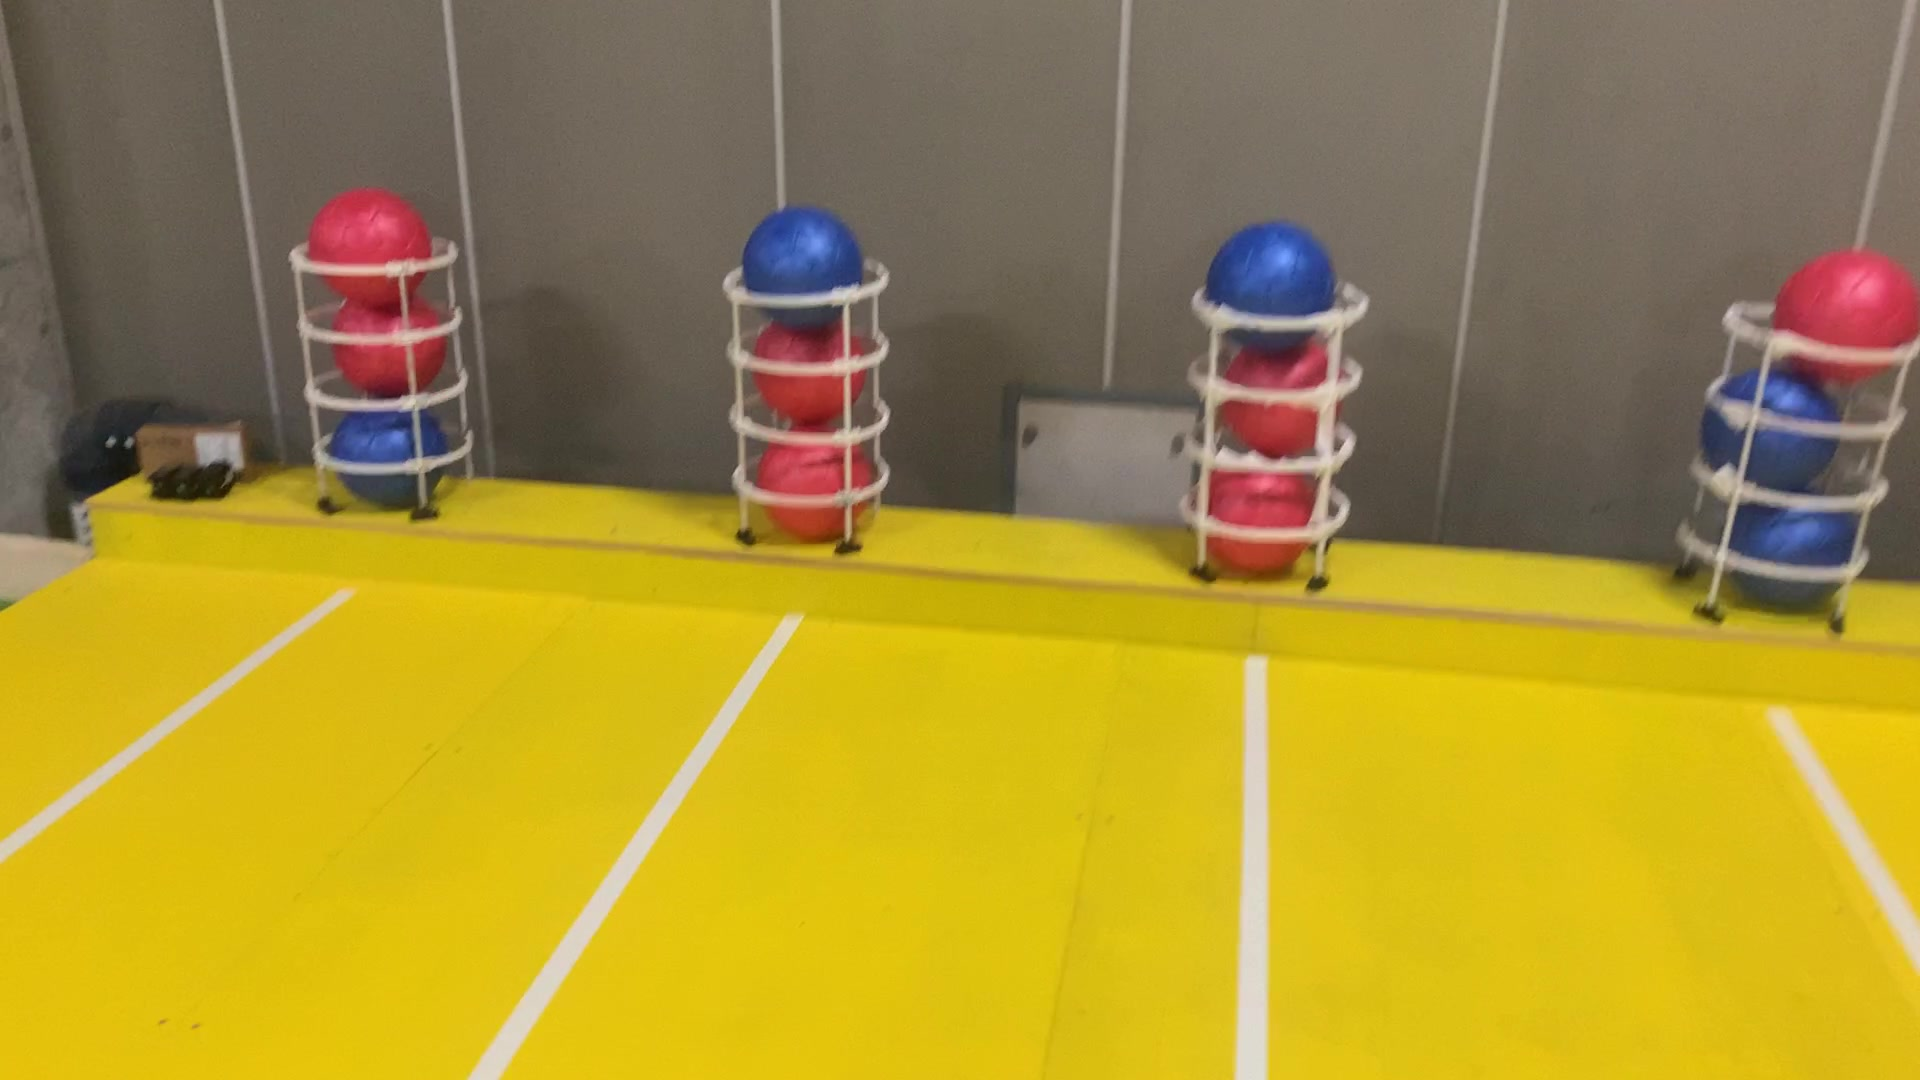blue: (1201, 216, 1346, 355), (1695, 360, 1845, 493), (1729, 476, 1861, 615), (735, 198, 862, 320), (323, 402, 462, 509)
red: (1779, 235, 1917, 394), (305, 179, 436, 311), (1215, 327, 1346, 452), (753, 418, 881, 546), (1192, 451, 1324, 571), (326, 286, 458, 398), (746, 310, 872, 426)
